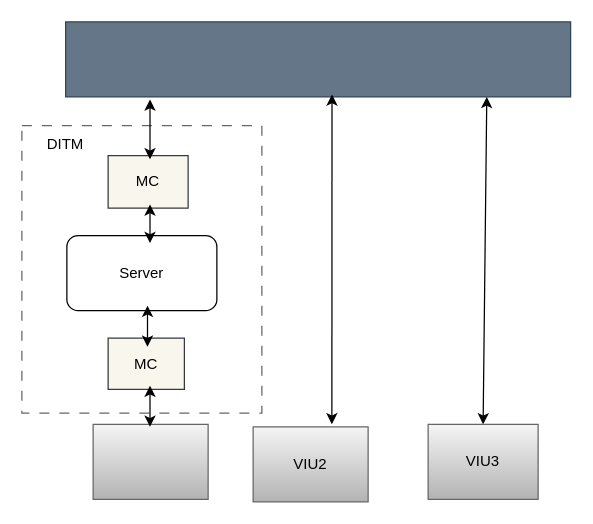
This 593x524 diagram has some shape labels left out. The centre of each missing label's shape, as x and y in pixels:
"VCU" belongs at (x=317, y=59).
"VIU1" belongs at (x=150, y=461).
